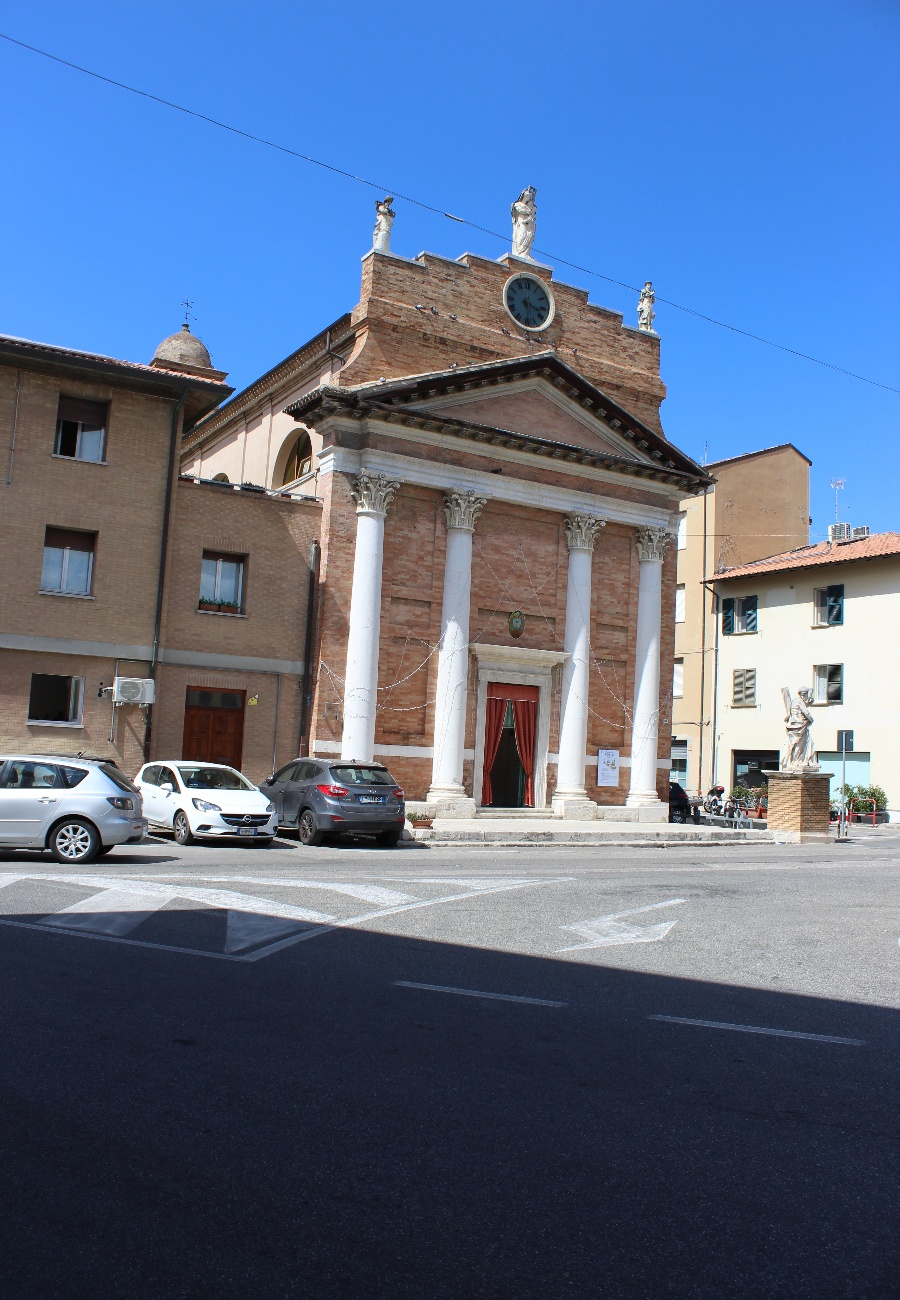Parrocchia Santa Maria: (298, 175, 717, 843)
